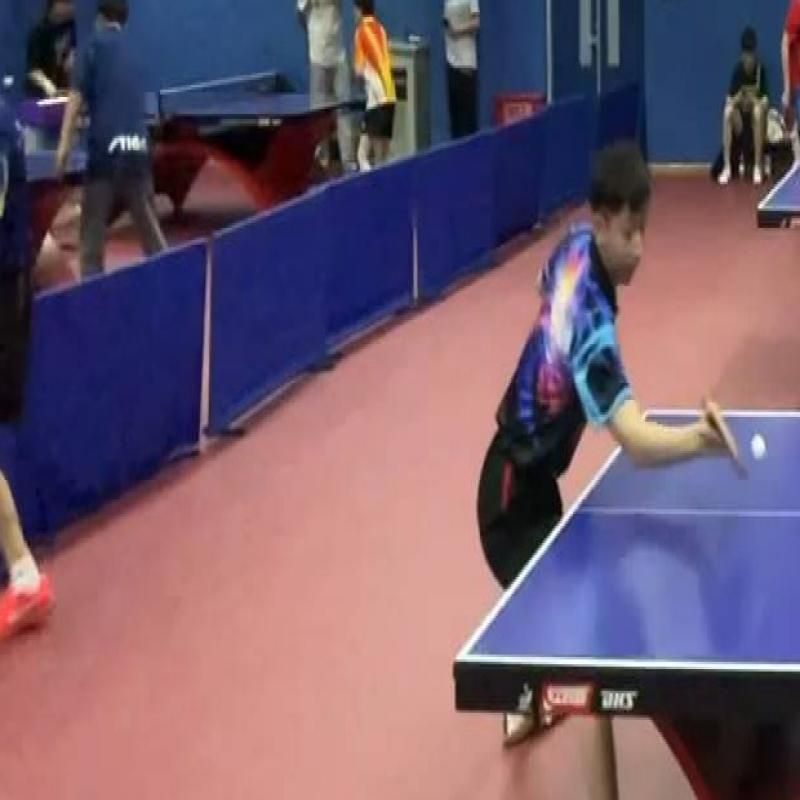bats: (692, 386, 753, 492)
